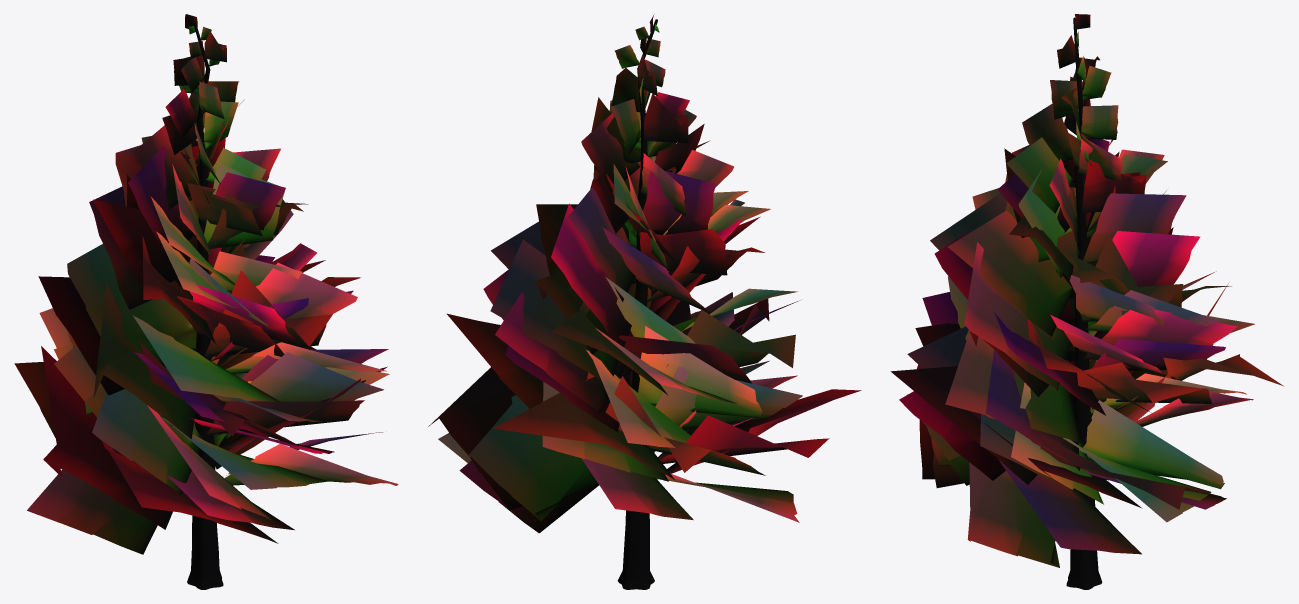
File: Tree_Pine2.FBX
3 renders of one model, left to right at view 1: azimuth 30°, elevation 25°; view 2: azimuth 150°, elevation 25°; view 3: azimuth 270°, elevation 25°, orthographic.
Parts seen in each view (by area): view 1: Tree_Pine2; view 2: Tree_Pine2; view 3: Tree_Pine2.
Part boxes in pixels (box(x1,y1,x2,y2)): Tree_Pine2: box(14, 14, 398, 589); Tree_Pine2: box(428, 14, 861, 589); Tree_Pine2: box(890, 14, 1283, 589).
Size of the model in its own units: 183 by 288 by 183.
